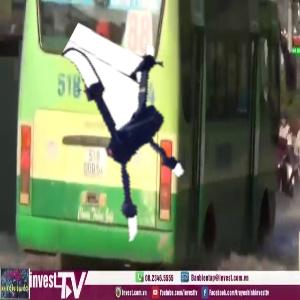drone: (30, 44, 224, 238)
